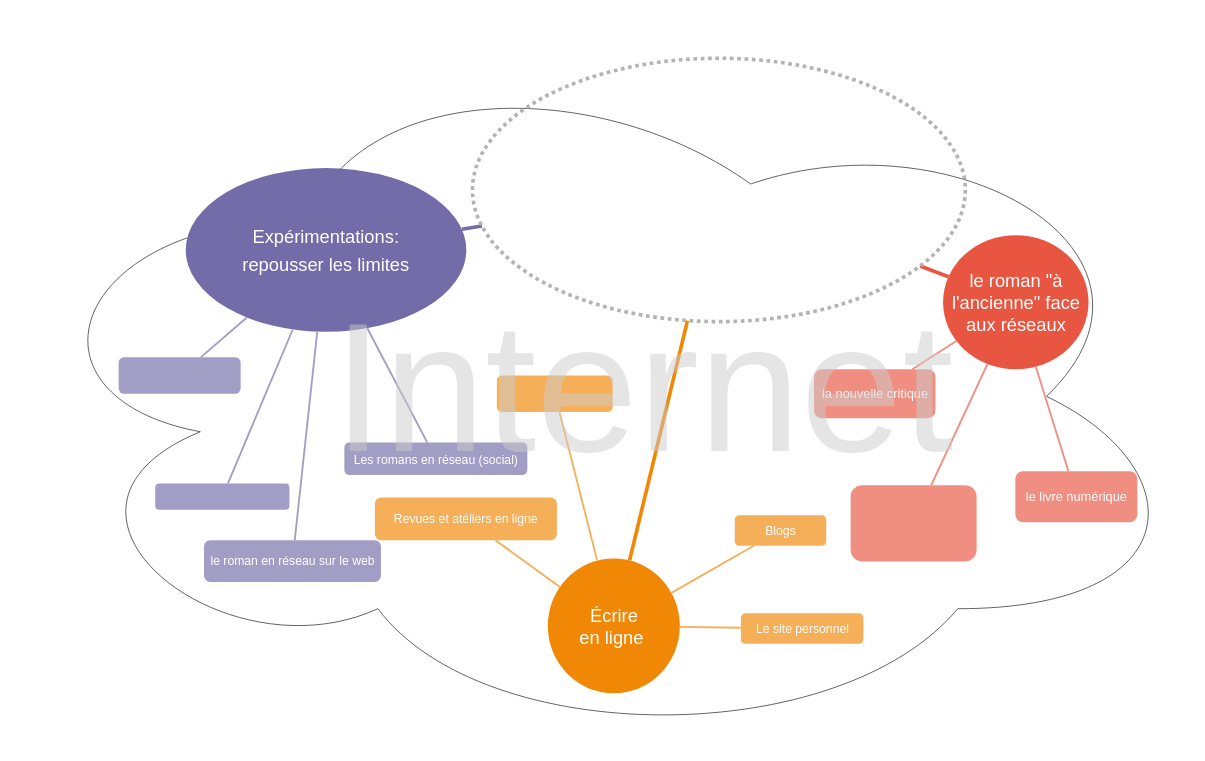
Some shapes in this 1205 by 761 pixel diagram are drawn without their labels. Here are the shapes that lost their labels. From the top down, the centre of each, then its label:
At point (718, 189): "Le Roman".
At point (179, 375): "le roman télématique".
At point (554, 393): "roman augmenté".
At point (222, 496): "Le roman hypertexte".
At point (913, 523): "Nouveaux espaces d'écriture et de publication".
